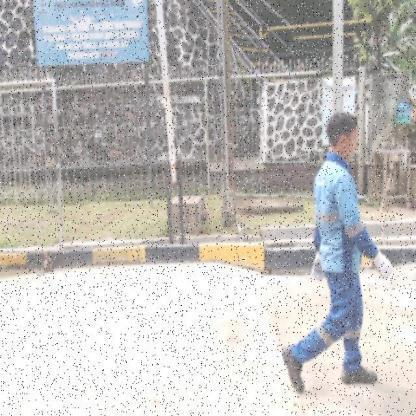boots: (278, 343, 306, 395), (340, 362, 382, 390)
gloves: (368, 248, 396, 287), (310, 249, 328, 283)
